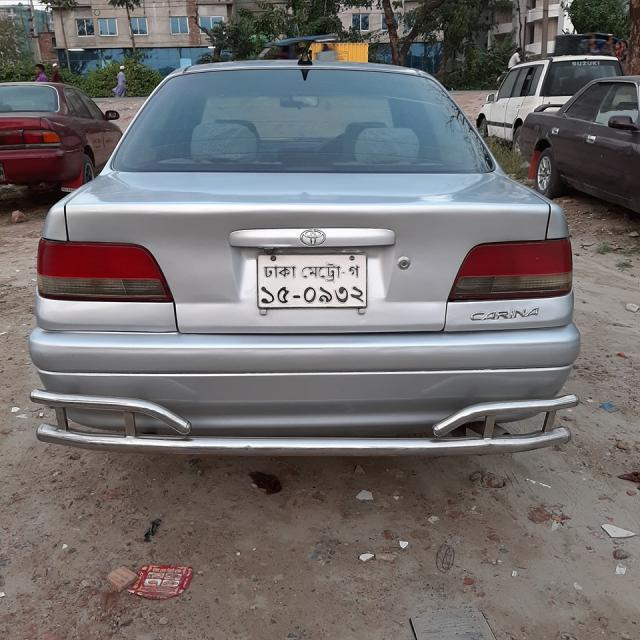car: (25, 1, 581, 499), (1, 65, 133, 194), (520, 66, 640, 193)
